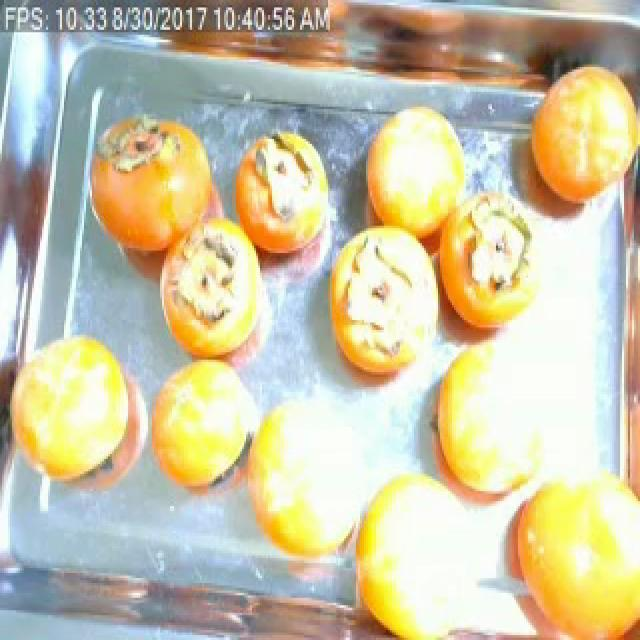Fruit: (78, 99, 236, 293), (4, 317, 150, 498), (512, 47, 640, 241), (138, 342, 262, 508), (352, 90, 480, 250)
